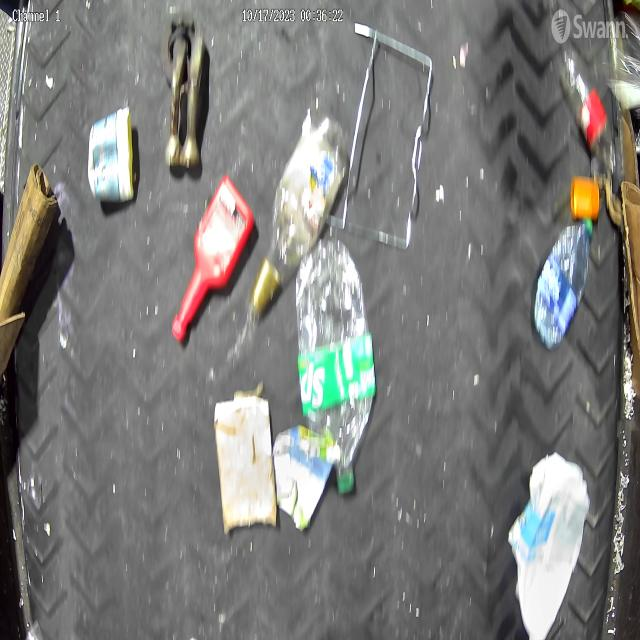milk_jug: (509, 451, 590, 640)
non_white_jug: (534, 218, 594, 348)
plastic_bottle: (299, 234, 372, 496), (265, 114, 348, 292), (560, 48, 614, 174)
